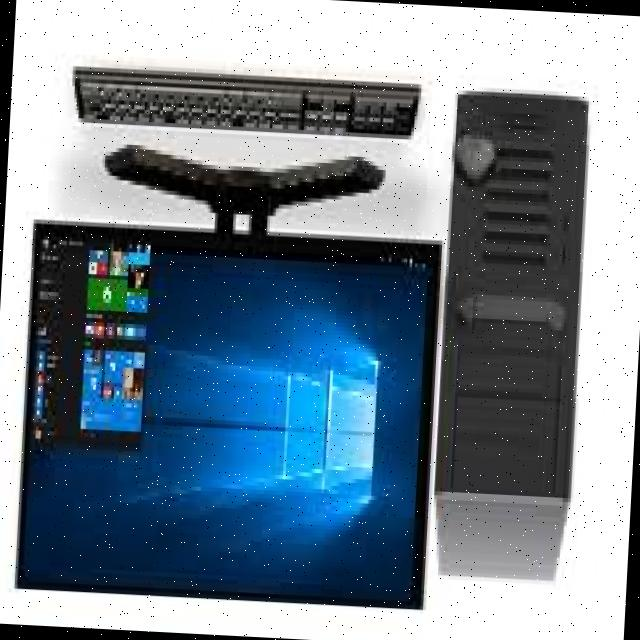Computer: (427, 82, 598, 598)
Monitor: (3, 196, 446, 622)
